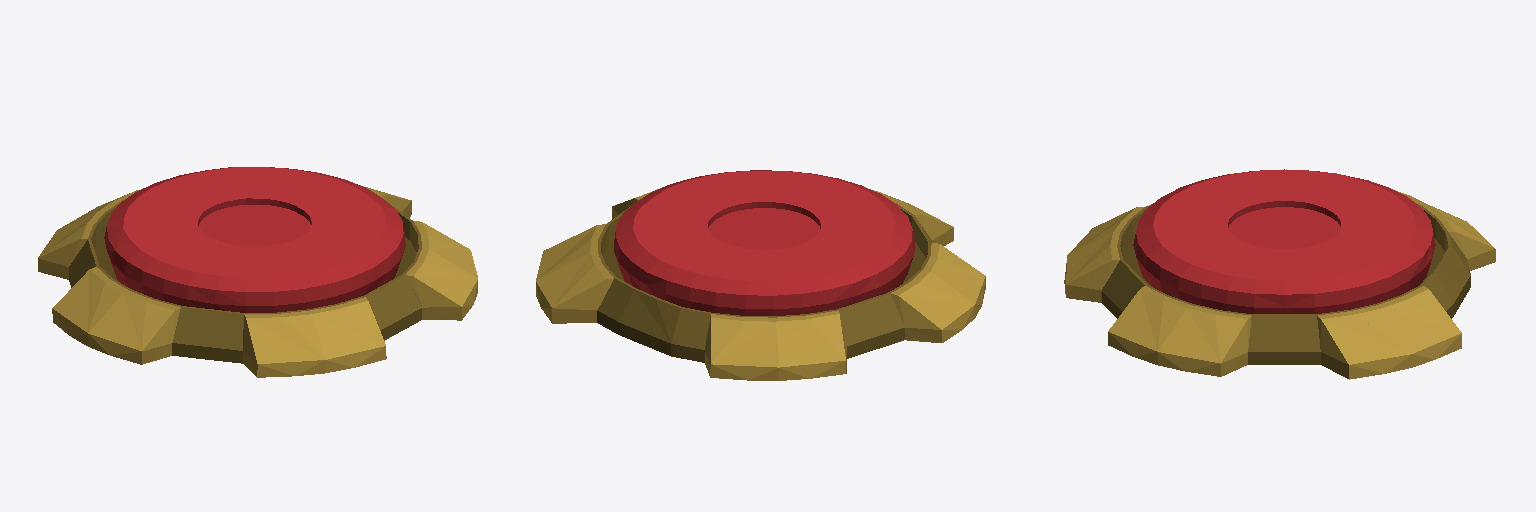
3 renders of one model, left to right at view 1: azimuth 30°, elevation 25°; view 2: azimuth 150°, elevation 25°; view 3: azimuth 270°, elevation 25°, orthographic.
Parts seen in each view (by area): view 1: ButtonMaterial; view 2: ButtonMaterial; view 3: ButtonMaterial.
Part boxes in pixels (x1,y1,x2,y2): ButtonMaterial: (38,167,477,377); ButtonMaterial: (536,170,985,380); ButtonMaterial: (1064,169,1495,379).
Size of the model in its own units: 1.8 by 0.2852 by 1.77.
1 materials, 1 textured.